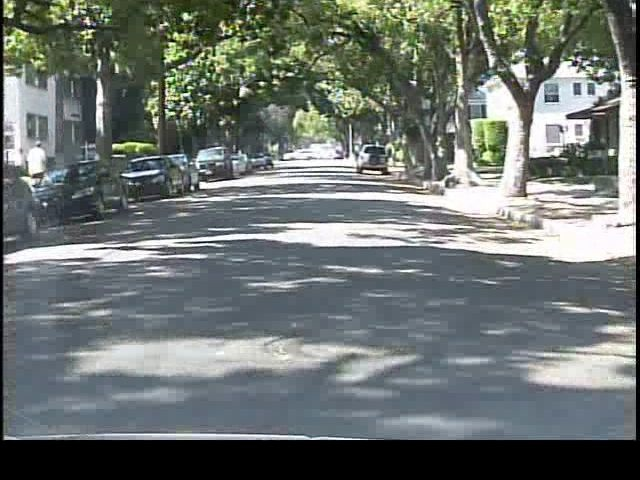person: (27, 138, 55, 204)
